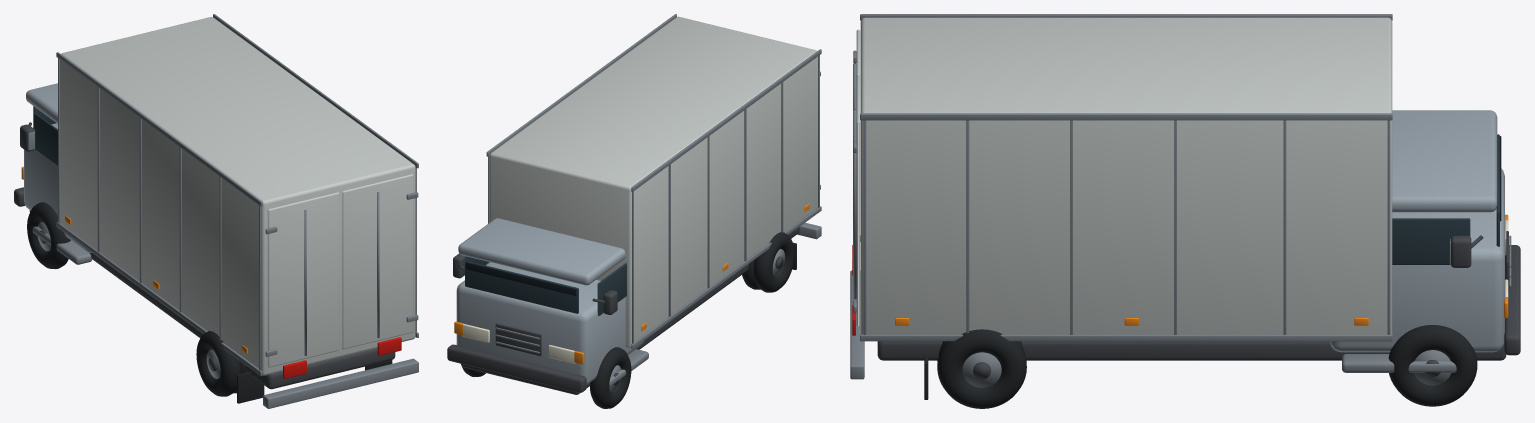
Rendered from truck.glb.
The picture shows the model from 3 angles, left to right: view 1: azimuth 30°, elevation 25°; view 2: azimuth 150°, elevation 25°; view 3: azimuth 270°, elevation 25°; orthographic projection. The views are drawn at different scales.
Visible parts, largest first — view 1: Cargo enamel, Brushed steel, Rubber, Engine, Paint, Window glass, Tail lamp; view 2: Cargo enamel, Paint, Brushed steel, Engine, Rubber, Window glass, Window sunstrip, Headlight, Indicator; view 3: Cargo enamel, Paint, Brushed steel, Engine, Rubber, Window glass.
Part boxes in pixels (bbox=[...]): Cargo enamel: bbox=[60, 17, 415, 375]; Brushed steel: bbox=[32, 14, 418, 408]; Rubber: bbox=[27, 202, 392, 403]; Engine: bbox=[14, 122, 395, 389]; Paint: bbox=[24, 83, 91, 252]; Window glass: bbox=[33, 106, 57, 165]; Tail lamp: bbox=[283, 337, 401, 378]; Cargo enamel: bbox=[489, 16, 817, 348]; Paint: bbox=[456, 218, 643, 384]; Brushed steel: bbox=[486, 14, 821, 392]; Engine: bbox=[447, 227, 799, 394]; Rubber: bbox=[461, 232, 796, 408]; Window glass: bbox=[465, 256, 626, 315]; Window sunstrip: bbox=[466, 262, 576, 295]; Headlight: bbox=[462, 324, 575, 363]; Indicator: bbox=[454, 203, 809, 364]; Cargo enamel: bbox=[856, 17, 1392, 334]; Paint: bbox=[1330, 110, 1504, 352]; Brushed steel: bbox=[850, 14, 1511, 387]; Engine: bbox=[877, 231, 1520, 379]; Rubber: bbox=[924, 325, 1477, 408]; Window glass: bbox=[1392, 134, 1499, 264].
Bounding box in the file's own units: 2.37 × 2.99 × 6.13.
